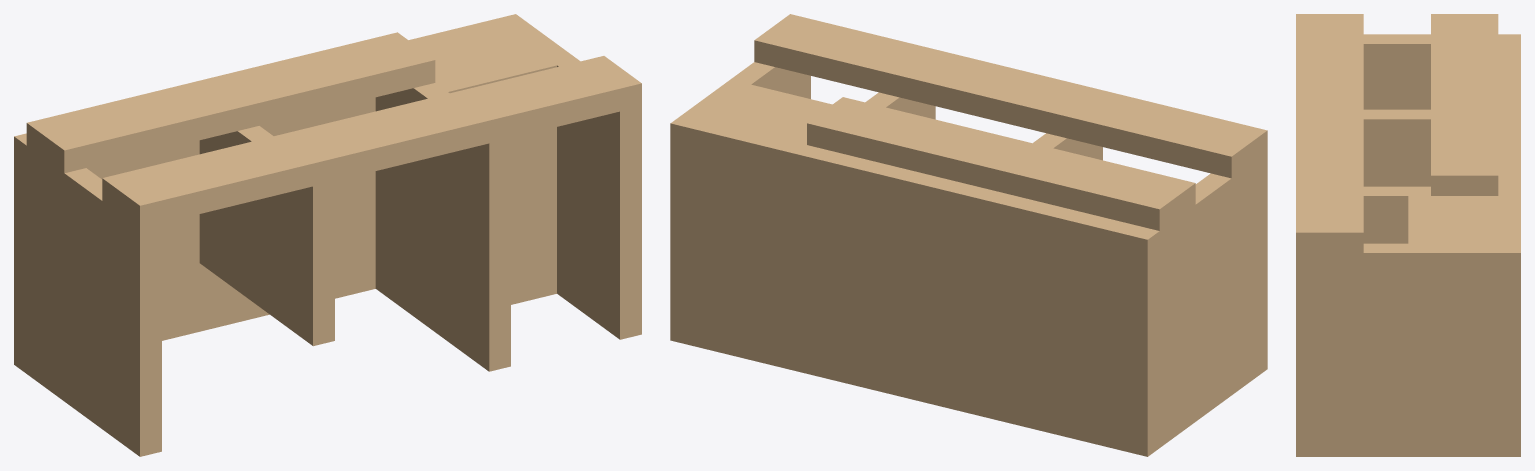
The model's file is tinker.obj.
The picture shows the model from 3 angles, left to right: view 1: azimuth 30°, elevation 25°; view 2: azimuth 150°, elevation 25°; view 3: azimuth 270°, elevation 25°; orthographic projection. The views are drawn at different scales.
Visible parts, largest first — view 1: obj_0; view 2: obj_0; view 3: obj_0.
Part boxes in pixels (x1,y1,x2,y2): obj_0: (14, 14, 641, 456); obj_0: (670, 14, 1267, 456); obj_0: (1296, 14, 1520, 456).
Bounding box in the file's own units: 345 × 181 × 150.
